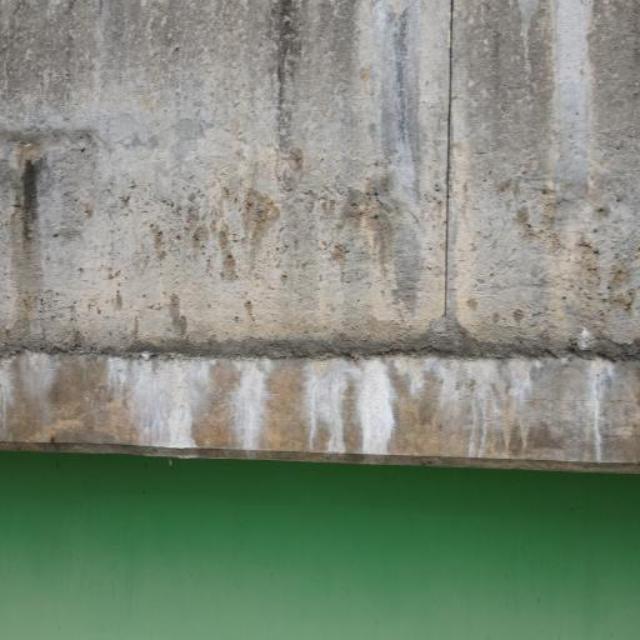D01: (110, 358, 213, 449), (550, 2, 593, 188), (354, 362, 397, 453), (306, 362, 349, 453), (234, 362, 273, 449), (586, 358, 613, 461)
